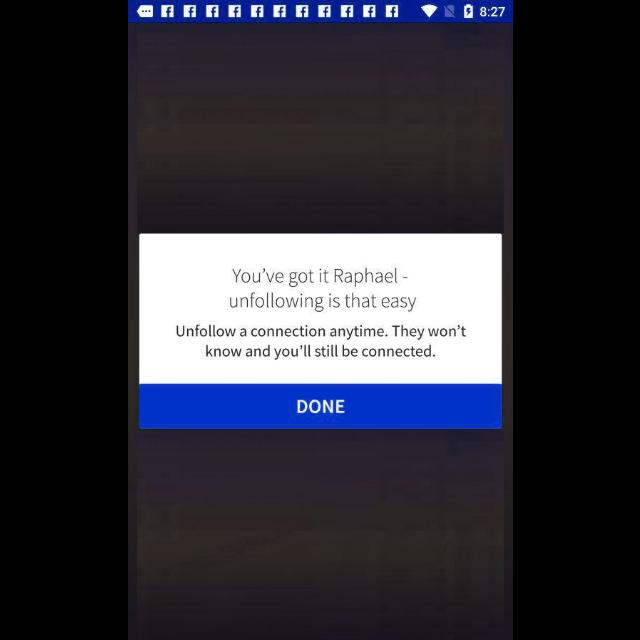panel: (138, 233, 502, 429)
text: (176, 324, 466, 360), (229, 268, 415, 312)
textbutton: (138, 384, 502, 430)
uppertaskbar: (128, 1, 512, 23)
